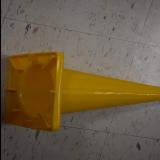cone: (4, 51, 160, 131)
